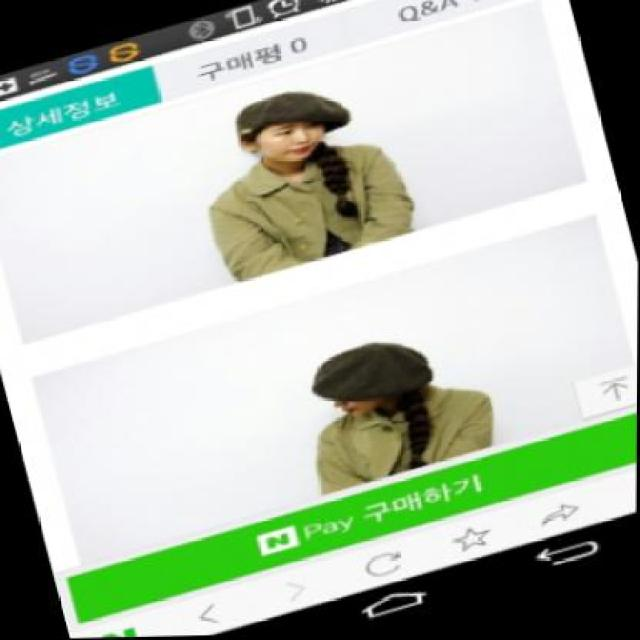hat: (307, 319, 445, 426), (222, 69, 356, 162)
